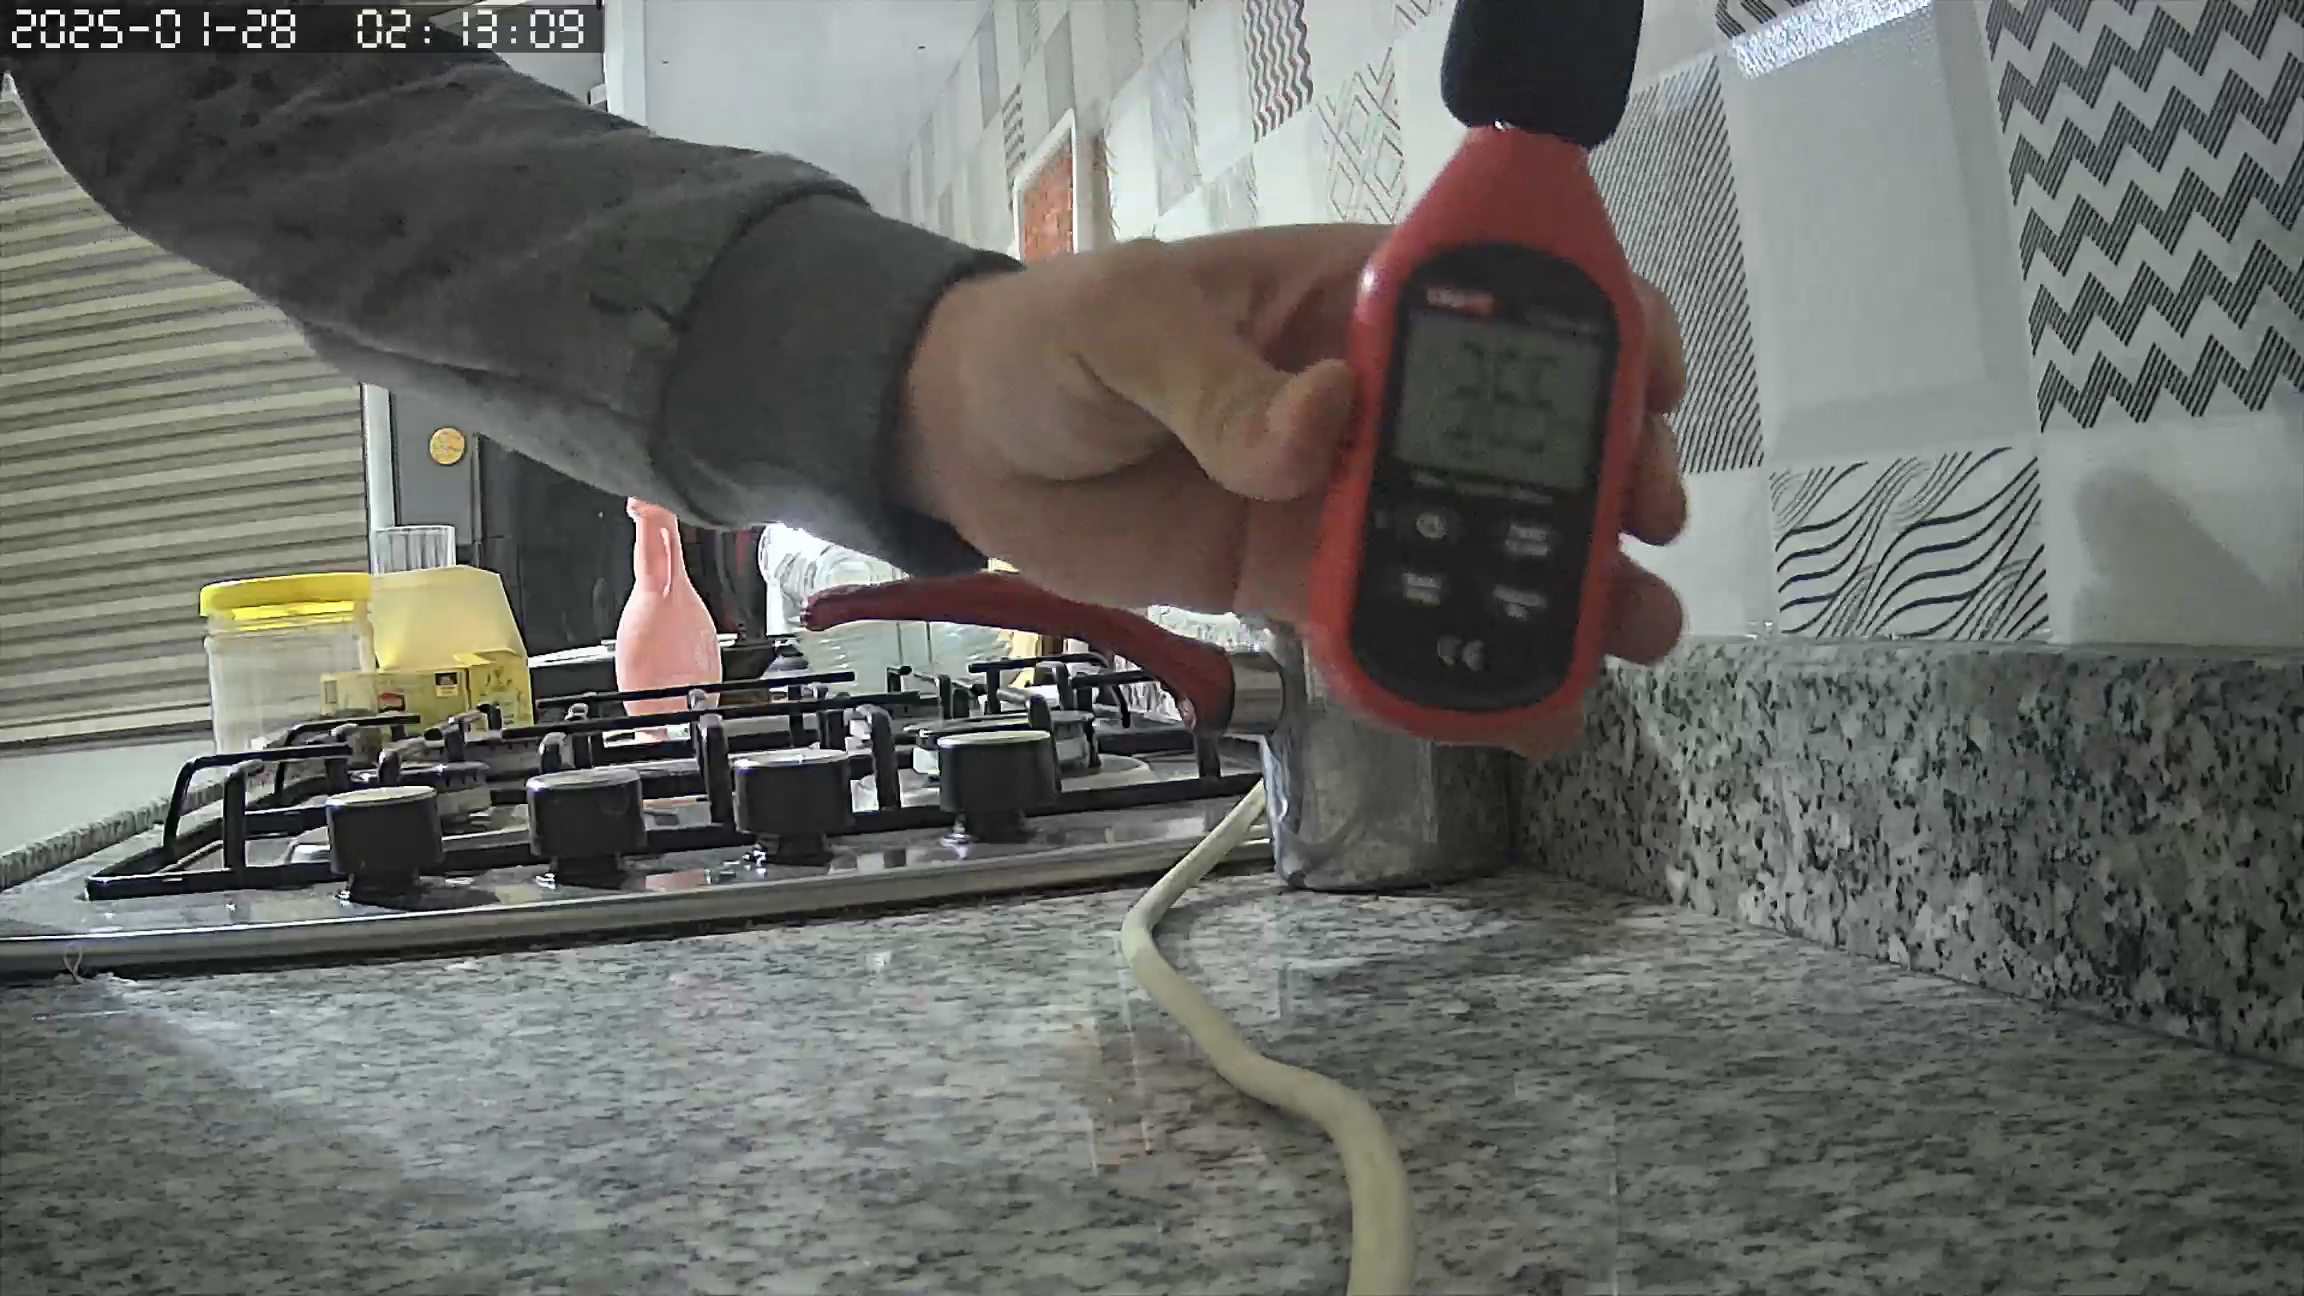screen: (1393, 305, 1598, 491)
